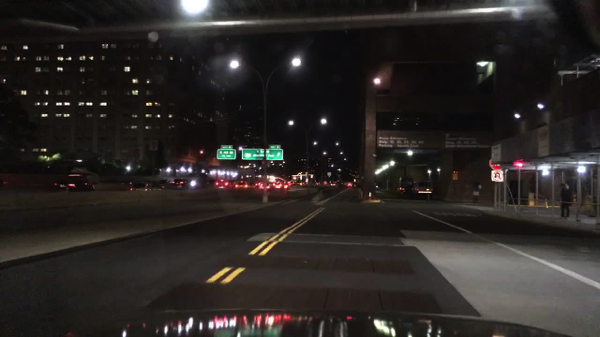car: (50, 173, 95, 192), (44, 160, 87, 173), (410, 180, 433, 201), (97, 162, 127, 176), (129, 180, 164, 191), (395, 181, 414, 197), (171, 179, 188, 191), (187, 176, 202, 189), (213, 179, 231, 189), (274, 180, 289, 190), (233, 181, 248, 189), (256, 182, 264, 190), (314, 180, 323, 186), (329, 181, 337, 187), (270, 182, 276, 190), (301, 182, 307, 187), (345, 183, 352, 187), (290, 180, 296, 184)
person: (559, 182, 573, 219), (582, 189, 593, 216)
traffic sign: (241, 148, 265, 161), (216, 149, 236, 161), (265, 149, 283, 161), (491, 169, 503, 182), (148, 138, 157, 152), (220, 145, 232, 149), (268, 144, 280, 147)
